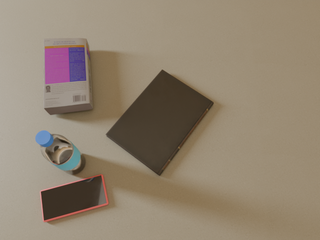book: (106, 70, 214, 176), (44, 38, 93, 115)
bottle: (35, 131, 85, 174)
phone: (40, 175, 108, 222)
